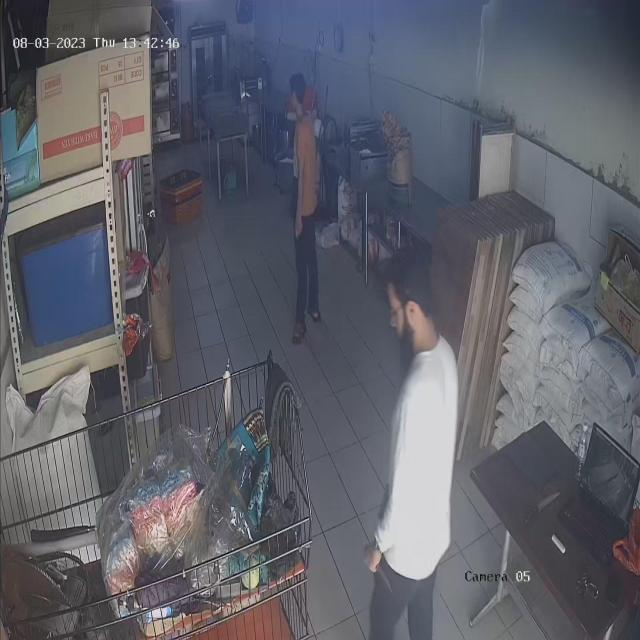Knife: (363, 549, 406, 607)
